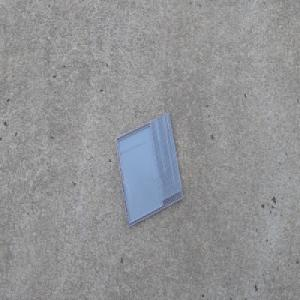PlasticPart: (114, 112, 183, 228)
